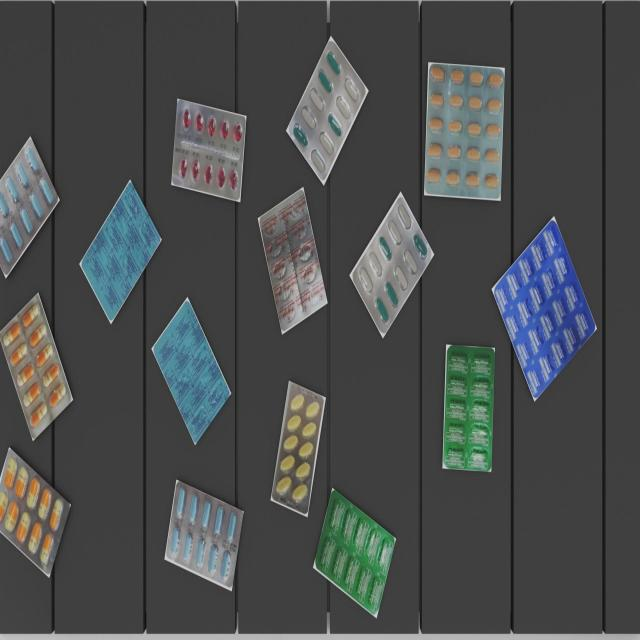blister: (495, 220, 596, 402), (153, 299, 232, 443), (79, 183, 162, 320), (351, 198, 432, 335), (424, 62, 504, 200), (0, 295, 75, 440), (292, 38, 366, 183), (315, 488, 394, 618), (259, 188, 327, 333), (0, 137, 57, 297), (0, 450, 70, 577), (166, 478, 244, 590), (172, 96, 245, 202), (272, 379, 325, 515), (443, 342, 495, 470)
